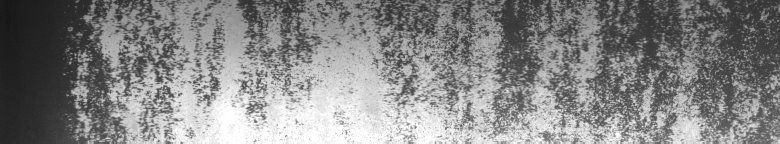kb: (63, 4, 776, 136)
